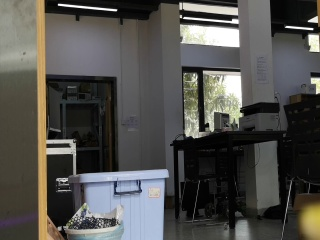room: (2, 2, 307, 236)
